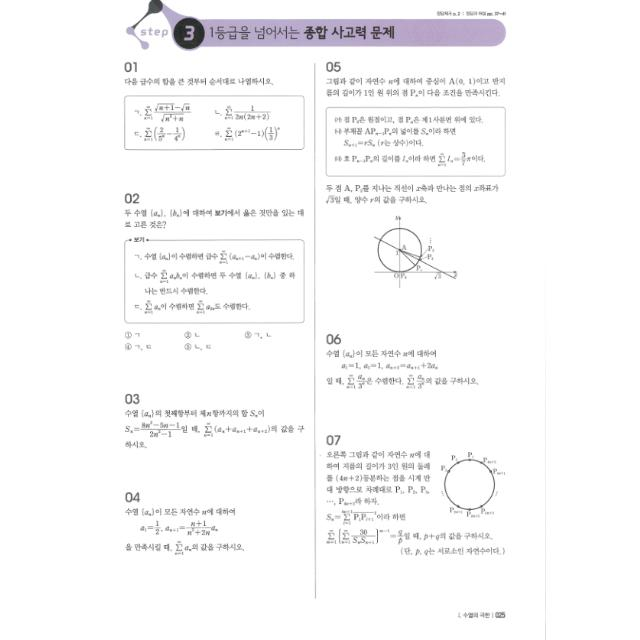multiple: (113, 187, 310, 365)
short: (320, 55, 516, 298), (317, 428, 515, 564), (114, 55, 308, 158), (115, 386, 309, 460), (321, 326, 485, 399), (118, 485, 255, 563)
